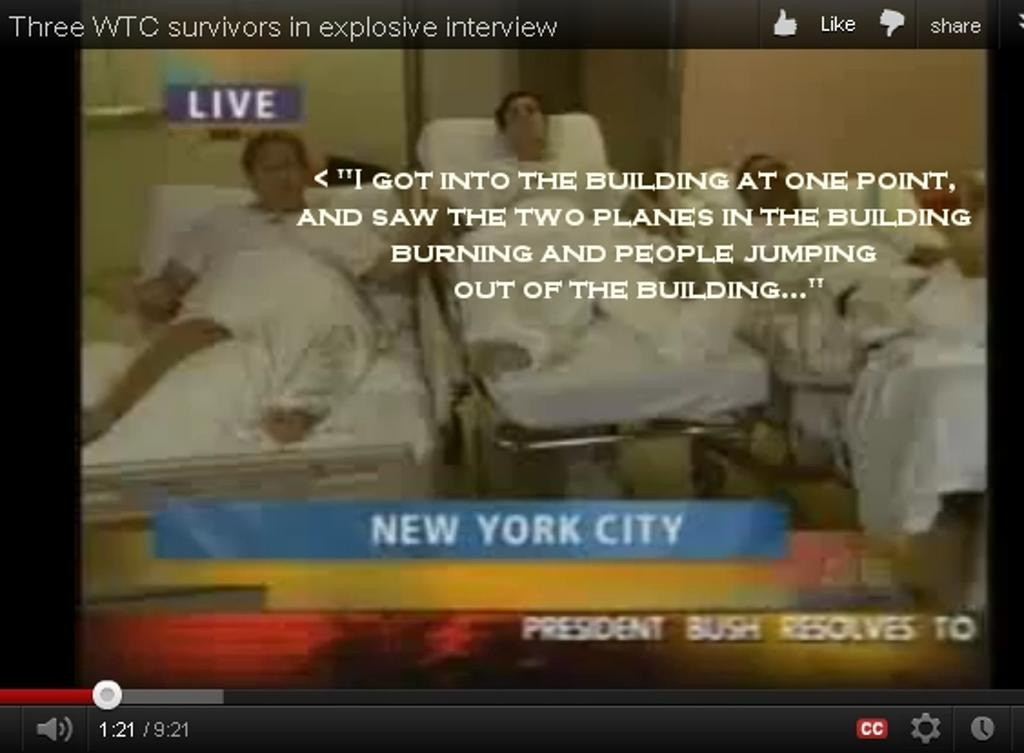face: (252, 145, 302, 207), (506, 99, 546, 140)
